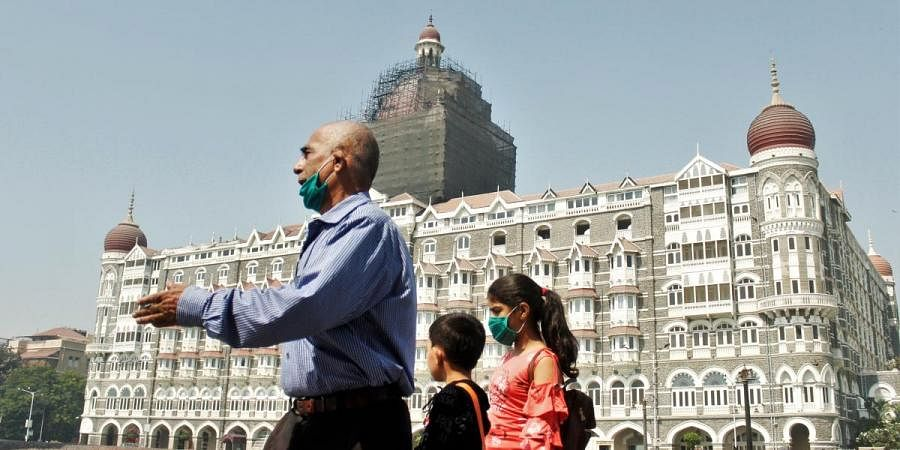with_incorrect_mask: (295, 139, 348, 206)
with_mask: (486, 298, 521, 339)
